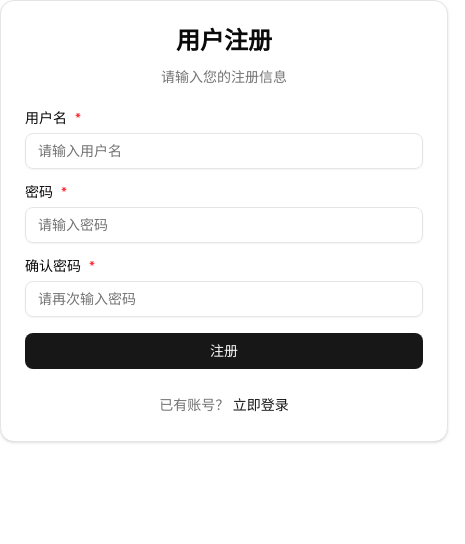
RegisterForm › shows validation errors for empty required fields
Click the button "注册".
click(224, 351)  # box [25,333,423,369]
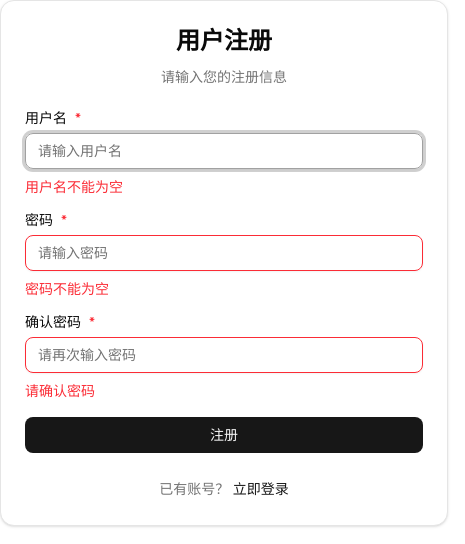
Now the text "用户名不能为空" is shown, box [25,178,123,196]
Now the text "密码不能为空" is shown, box [25,280,109,298]
Now the text "请确认密码" is shown, box [25,382,95,400]
